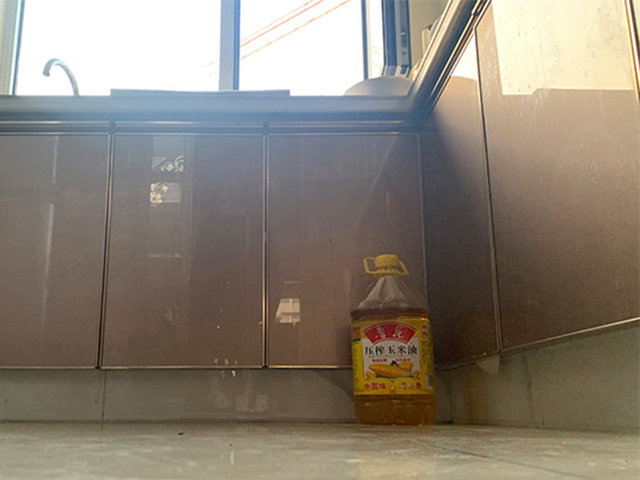cabinet: (1, 52, 442, 432), (424, 1, 640, 433)
